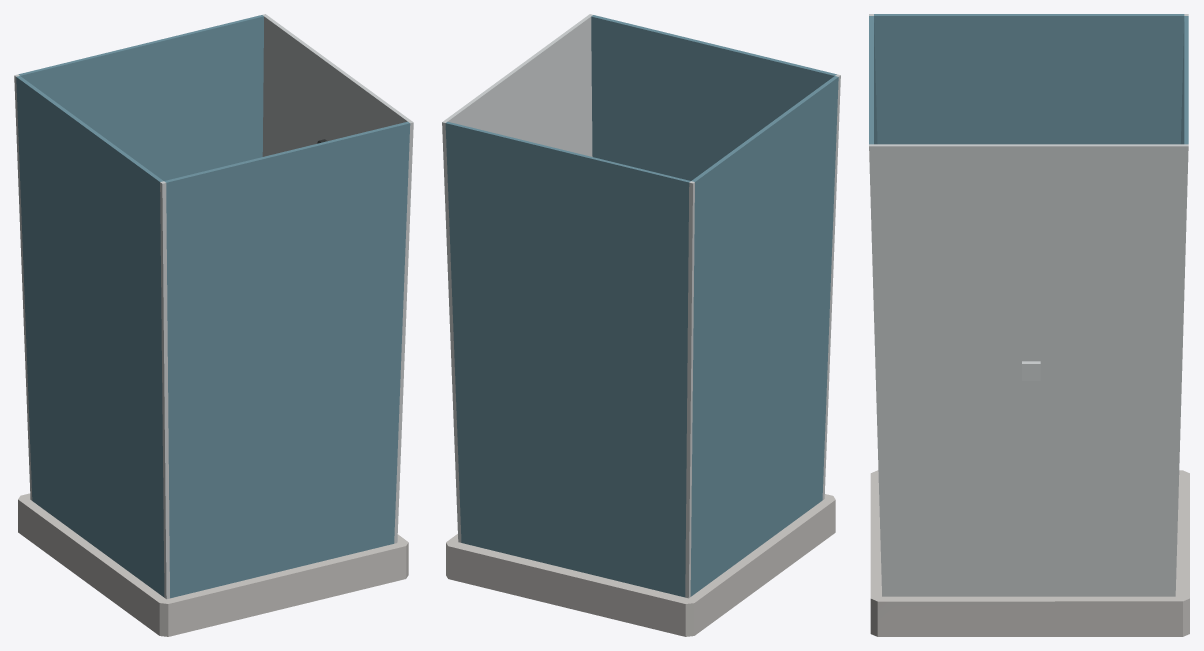
Rendered from 03douche_fancy_nieuwestijl.fbx.
3 renders of one model, left to right at view 1: azimuth 30°, elevation 25°; view 2: azimuth 150°, elevation 25°; view 3: azimuth 270°, elevation 25°, orthographic. The views are drawn at different scales.
Parts seen in each view (by area): view 1: polySurface131; view 2: polySurface131; view 3: polySurface131.
Boxes of the visible parts, box(x1,y1,x2,y2) form: polySurface131: box(14, 14, 413, 636); polySurface131: box(442, 14, 840, 636); polySurface131: box(869, 14, 1189, 636).
Bounding box in the file's own units: 2.48 × 4.3 × 2.55.
